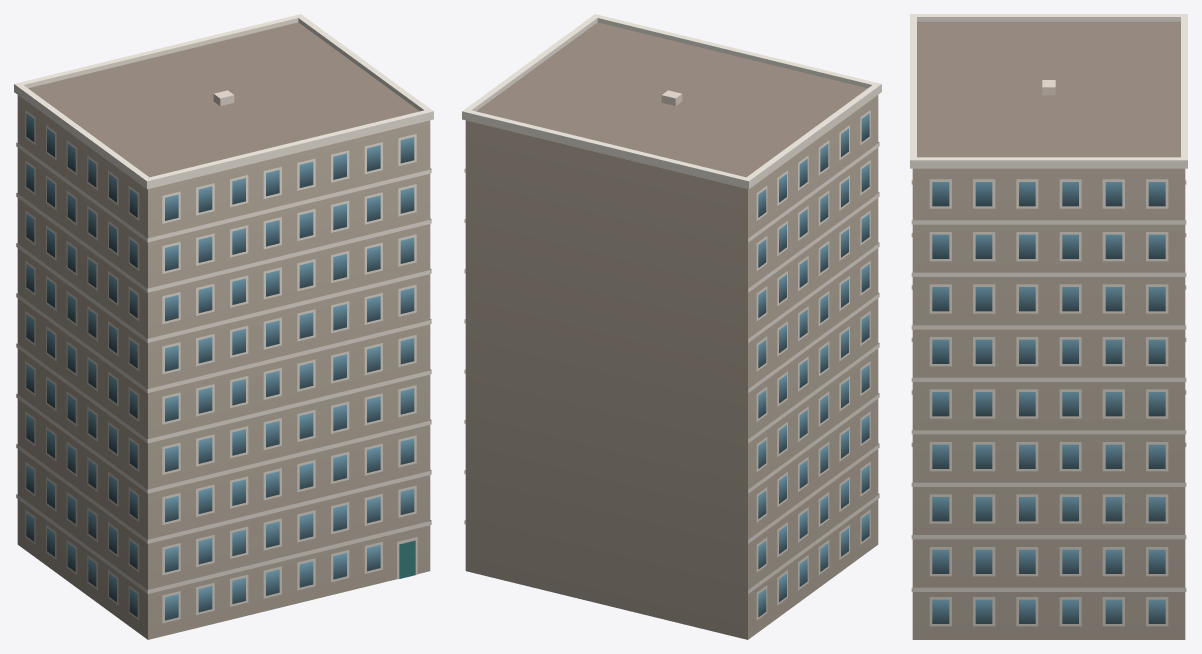
Rendered from sky8_far.glb.
3 renders of one model, left to right at view 1: azimuth 30°, elevation 25°; view 2: azimuth 150°, elevation 25°; view 3: azimuth 270°, elevation 25°, orthographic. The views are drawn at different scales.
Parts seen in each view (by area): view 1: sky8_far; view 2: sky8_far; view 3: sky8_far.
Boxes of the visible parts, x1=… form: sky8_far: x1=14, y1=14, x2=433, y2=639; sky8_far: x1=462, y1=14, x2=881, y2=639; sky8_far: x1=910, y1=14, x2=1187, y2=639.
Bounding box in the file's own units: 20.32 × 31.37 × 16.32.
Materials: 1 (1 with a texture image).
